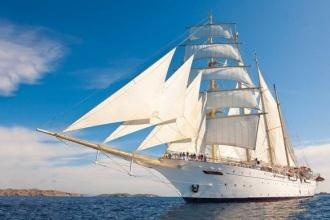fanchuan: (35, 17, 320, 200)
